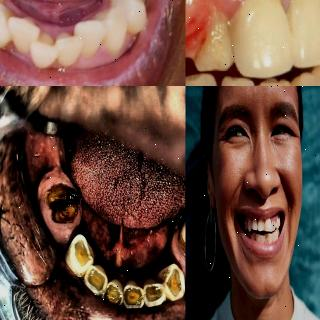Gum Swelling: (185, 0, 241, 61)
maligned: (32, 32, 62, 80), (76, 20, 106, 60), (56, 30, 89, 66), (110, 0, 150, 28), (5, 14, 36, 50), (251, 232, 257, 242), (270, 221, 275, 230), (260, 233, 265, 242), (264, 234, 268, 242)
stains: (263, 233, 269, 241)
